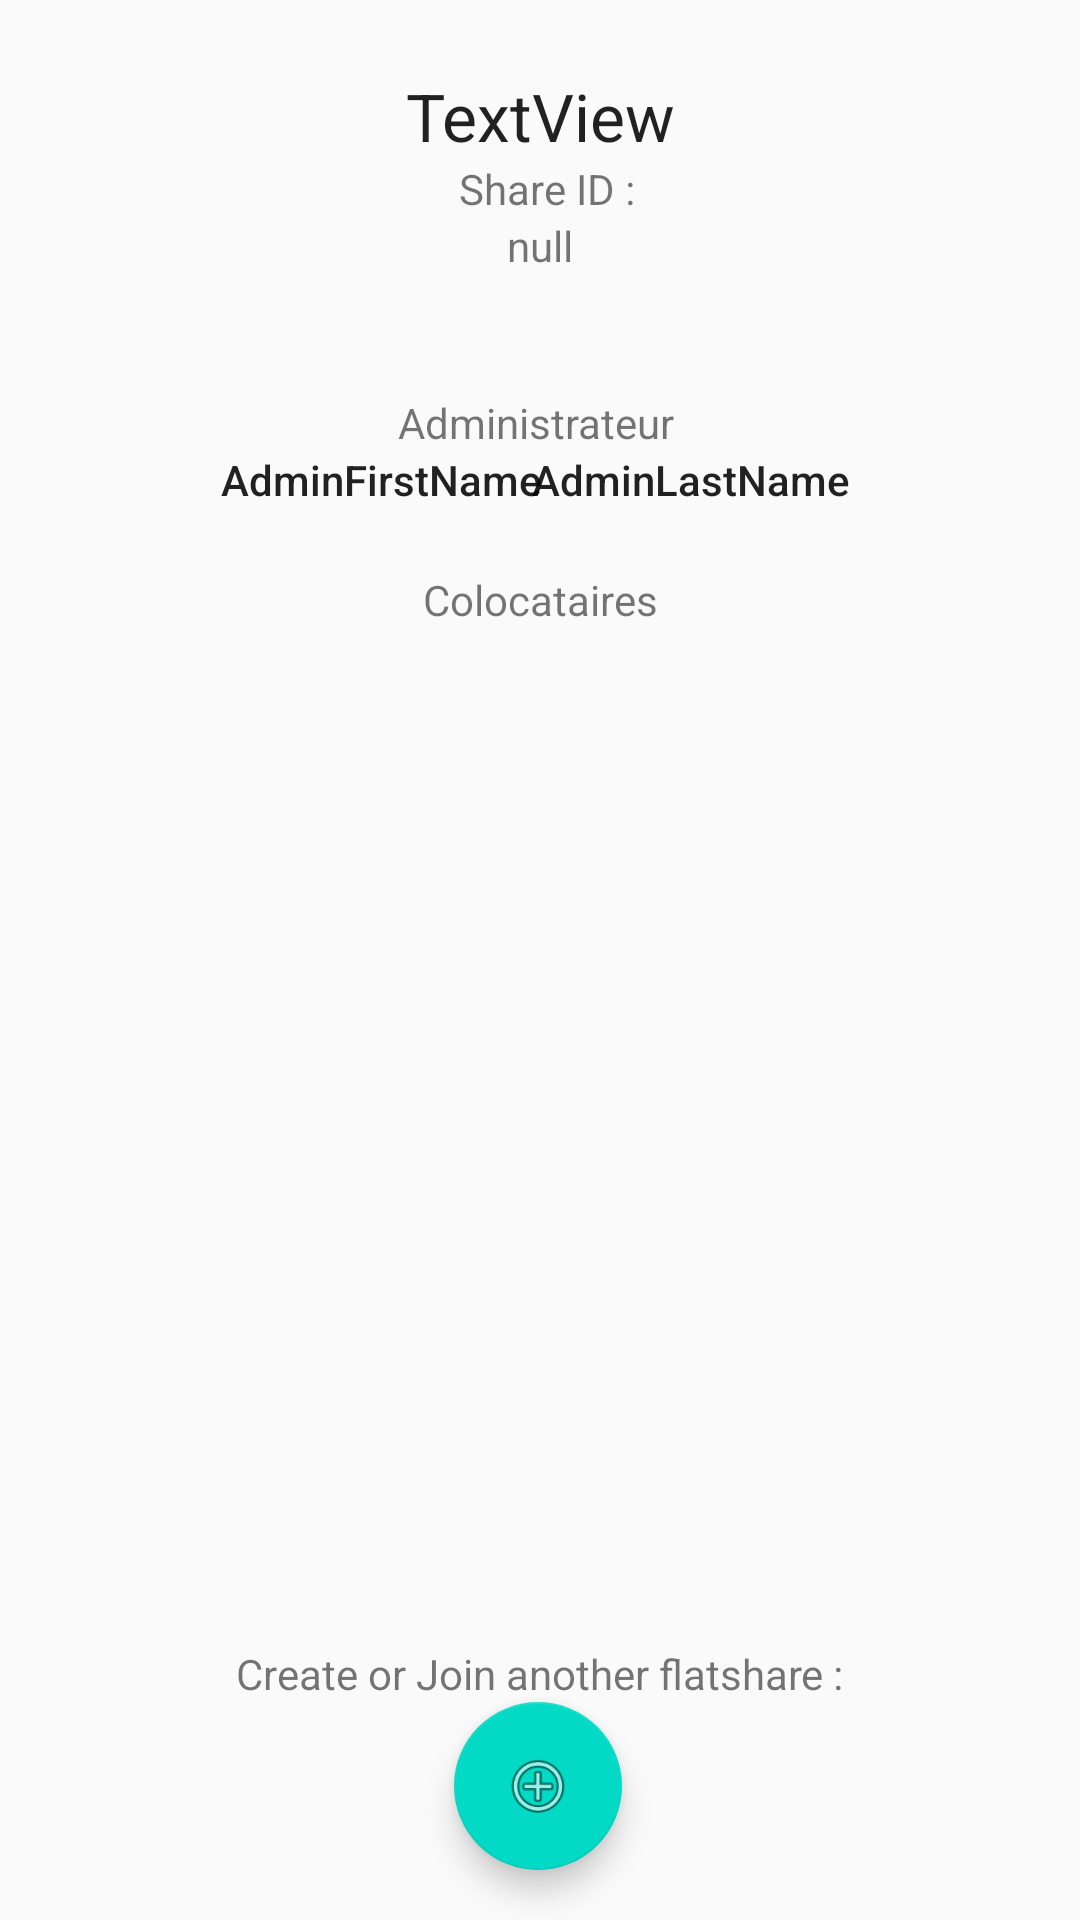

Icons on this 1080 x 1920 Android screen, each with the point to tap as (x,y):
add: (538,1786)
